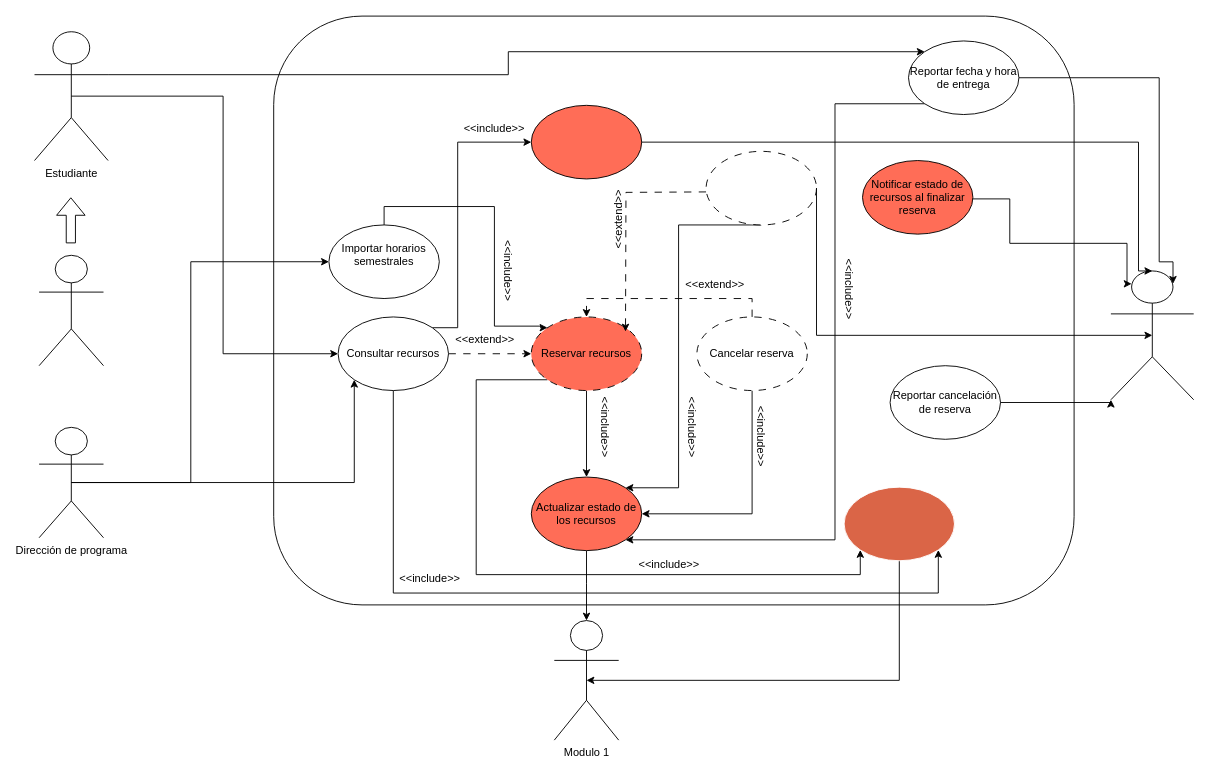
Image size: 1210x776. Some labels were removed from this diagram. Here are the shapes that lost their labels. From the top down, the centre of each, then its label:
At point 586,141: "Consultar reportes".
At point 760,187: "Reportar no asistencia".
At point 71,310: "Monitor".
At point 1152,335: "Modulo 3".
At point 898,523: "Consultar disponibilidad de los recursos".
